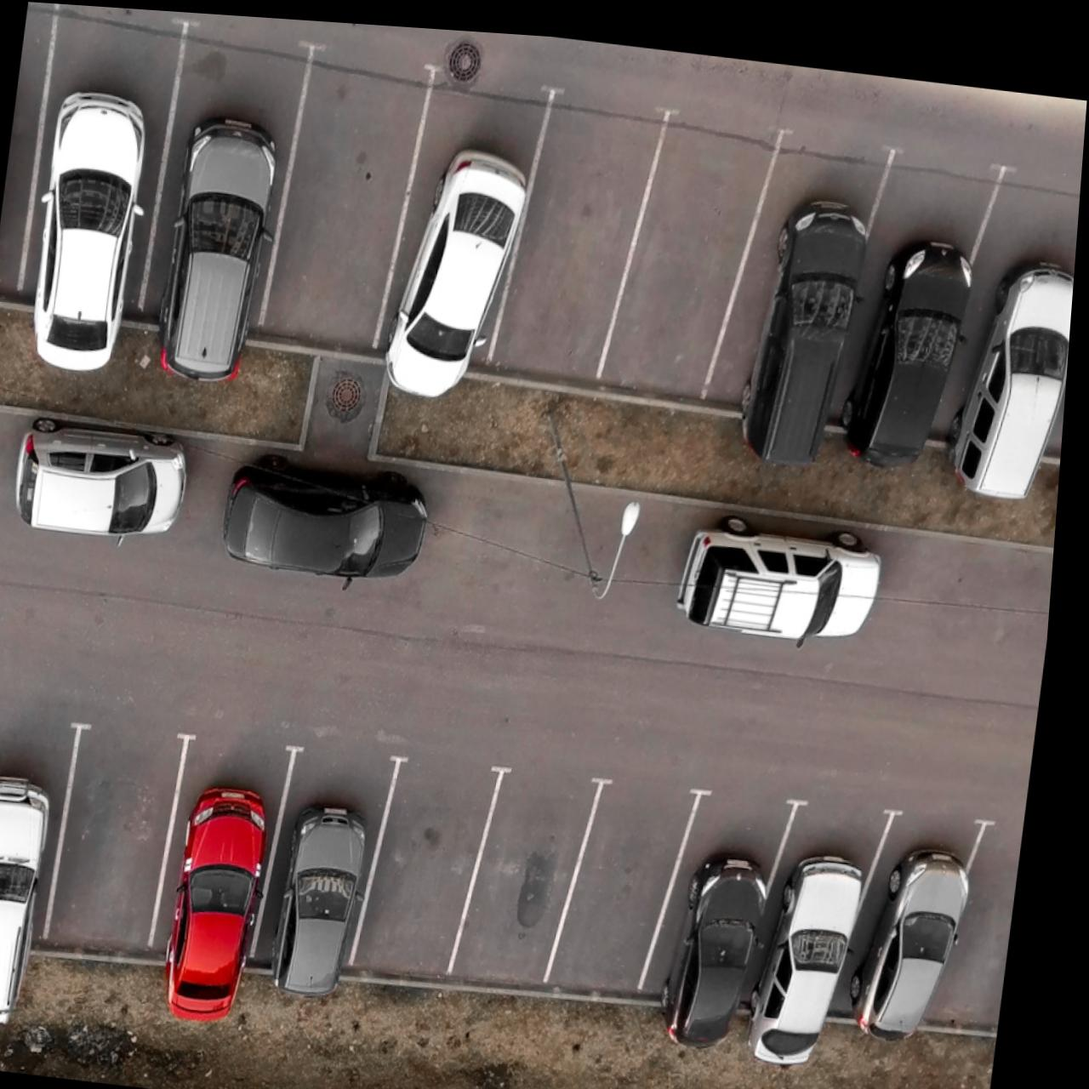cars: (142, 15, 303, 345), (20, 3, 187, 321), (723, 110, 882, 431), (827, 136, 981, 453), (388, 62, 549, 362), (938, 174, 1081, 467), (151, 721, 288, 969), (839, 804, 977, 1040), (257, 732, 383, 978), (659, 791, 784, 1026), (746, 806, 875, 1030), (0, 700, 80, 956)
empty: (257, 40, 433, 355), (493, 64, 656, 394), (603, 96, 766, 410), (47, 714, 187, 962), (350, 750, 492, 991), (456, 767, 586, 999), (563, 789, 687, 1005), (920, 820, 1023, 1048)
